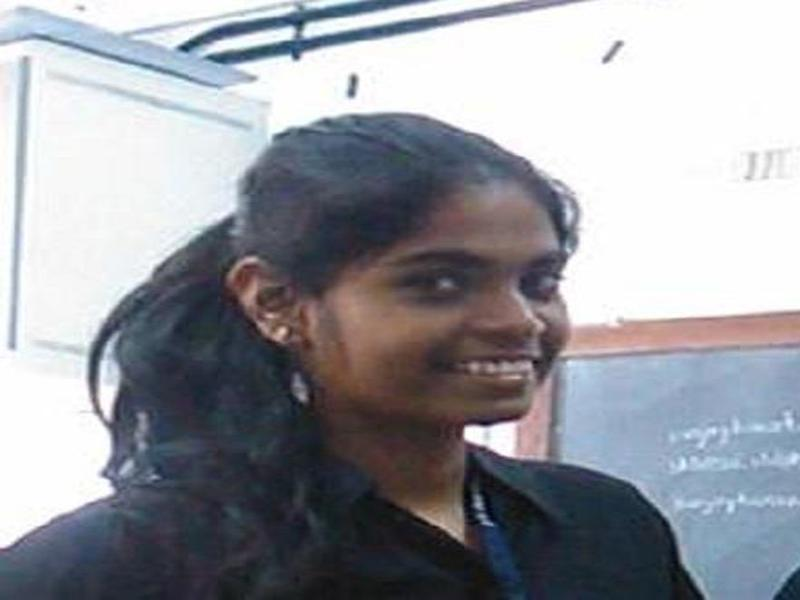without_mask: (314, 173, 578, 422)
